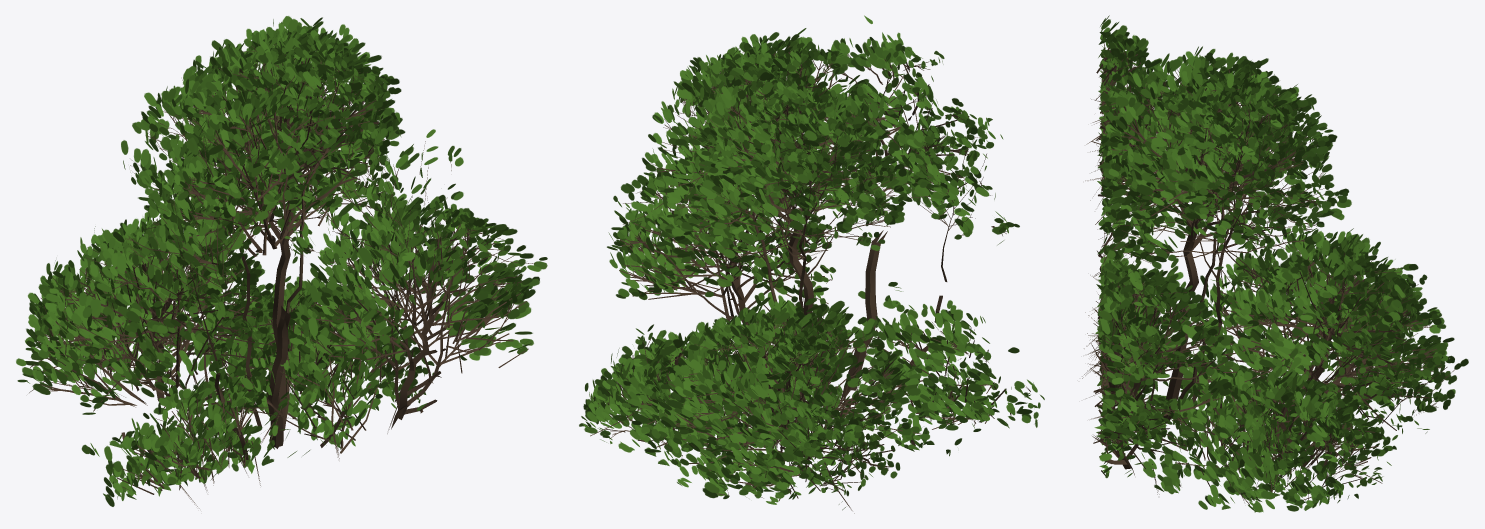
The picture shows the model from 3 angles, left to right: view 1: azimuth 30°, elevation 25°; view 2: azimuth 150°, elevation 25°; view 3: azimuth 270°, elevation 25°; orthographic projection. The views are drawn at different scales.
Parts seen in each view (by area): view 1: oak 01.001_trunk_Mat.001_0.351; view 2: oak 01.001_trunk_Mat.001_0.351; view 3: oak 01.001_trunk_Mat.001_0.351.
Part boxes in pixels (<box>): oak 01.001_trunk_Mat.001_0.351: <box>16,16,547,508</box>; oak 01.001_trunk_Mat.001_0.351: <box>579,15,1044,513</box>; oak 01.001_trunk_Mat.001_0.351: <box>1082,15,1468,512</box>.
Size of the model in its own units: 4.06 by 3.56 by 3.13.
Materials: 2 (1 with a texture image).
